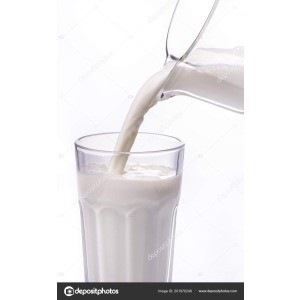milk_brain food: (76, 160, 180, 281), (119, 64, 226, 139)
